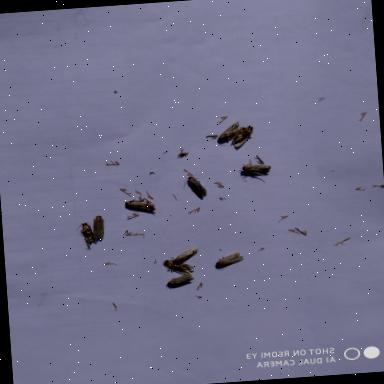pbw: (181, 172, 207, 200), (228, 124, 256, 148), (162, 256, 195, 276), (242, 156, 272, 177), (75, 220, 95, 250), (216, 121, 241, 145), (214, 250, 246, 268), (124, 196, 156, 214), (169, 246, 199, 264), (164, 273, 196, 289), (94, 214, 107, 241)
